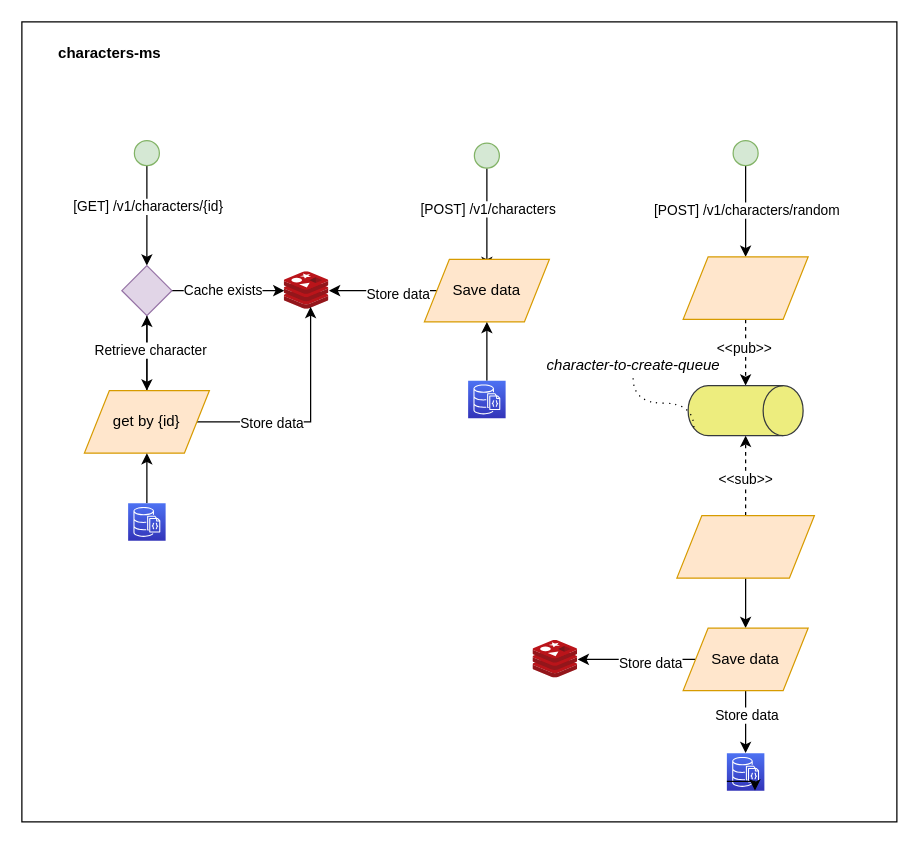
Image size: 919x844. Some labels were removed from this diagram. Each missing label, with the centre of its shape:
"Dispatch event" goes at (x=745, y=287).
"Event listener" goes at (x=745, y=546).
